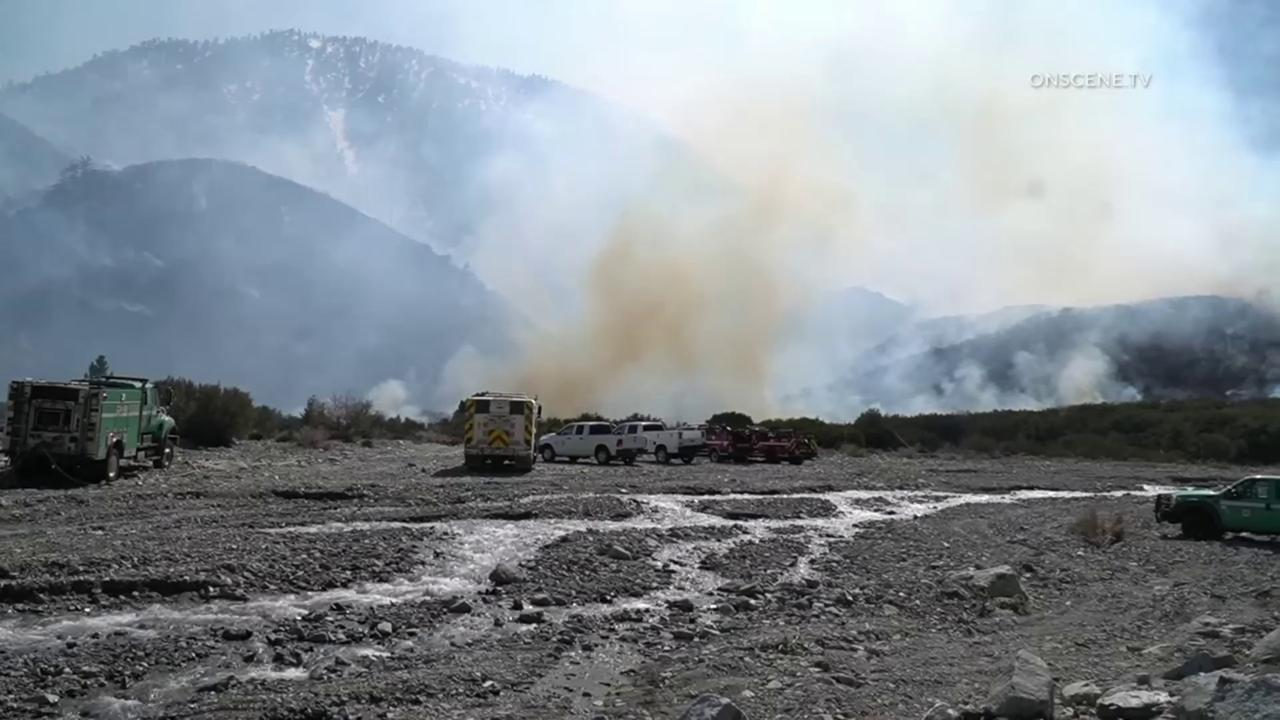smoke: (0, 0, 1280, 424)
